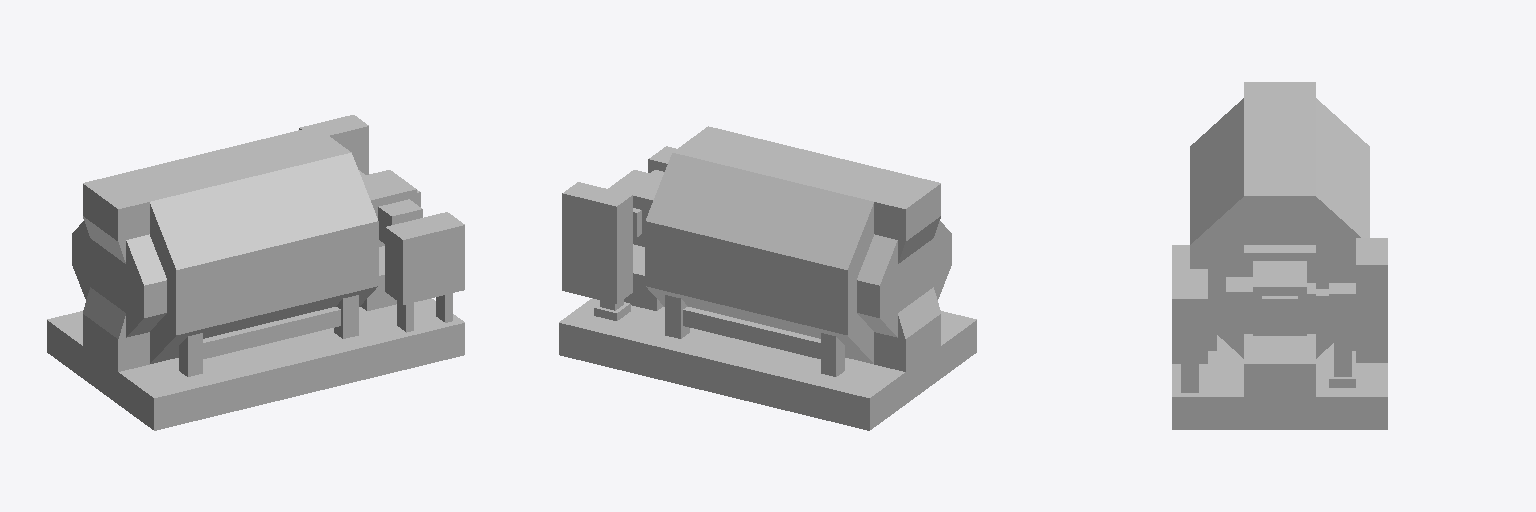
Rendered from boiler.obj.
The picture shows the model from 3 angles: view 1: azimuth 30°, elevation 25°; view 2: azimuth 150°, elevation 25°; view 3: azimuth 270°, elevation 25°; orthographic projection.
Visible parts, largest first — view 1: base; view 2: base; view 3: base.
Part boxes in pixels (x1,y1,x2,y2): base: (47,115,464,430); base: (559,126,976,430); base: (1172,82,1387,429).
Bounding box in the file's own units: 5 × 3 × 3.